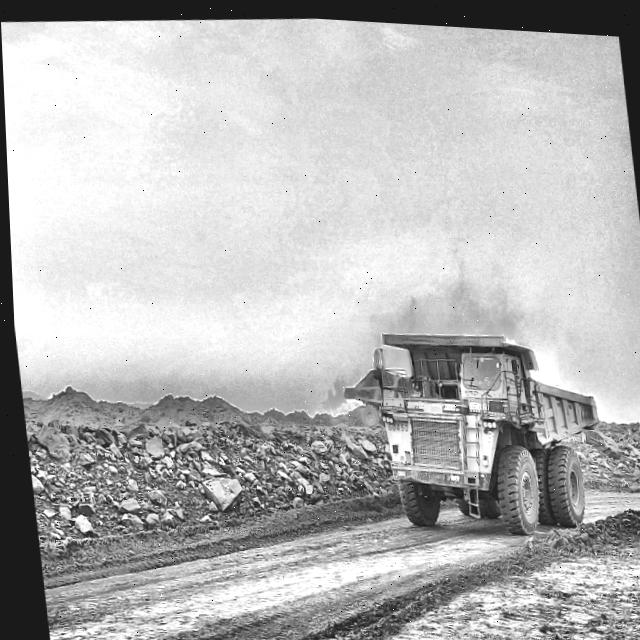dump_truck: (344, 327, 594, 528)
